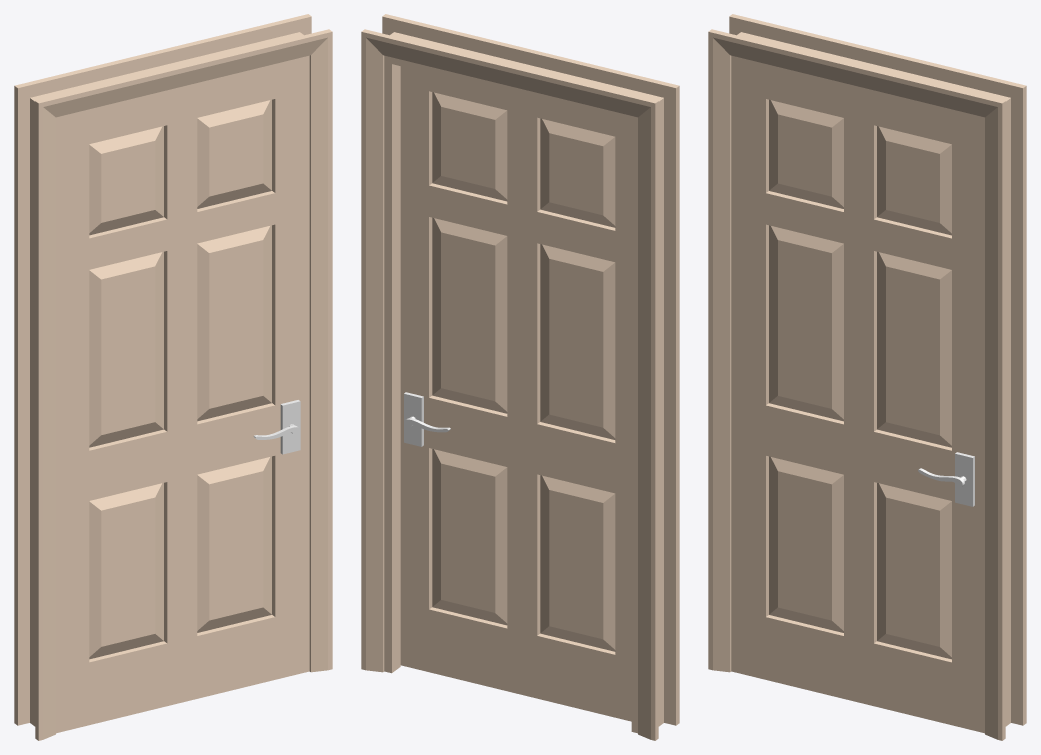
The picture shows the model from 3 angles, left to right: view 1: azimuth 30°, elevation 25°; view 2: azimuth 150°, elevation 25°; view 3: azimuth 330°, elevation 25°; orthographic projection.
Parts seen in each view (by area): view 1: intdoor.dxf_001; view 2: intdoor.dxf_001; view 3: intdoor.dxf_001.
Boxes of the visible parts, x1=… form: intdoor.dxf_001: x1=14, y1=14, x2=332, y2=740; intdoor.dxf_001: x1=361, y1=14, x2=679, y2=740; intdoor.dxf_001: x1=708, y1=14, x2=1026, y2=740.
Bounding box in the file's own units: 980 × 2030 × 162.
